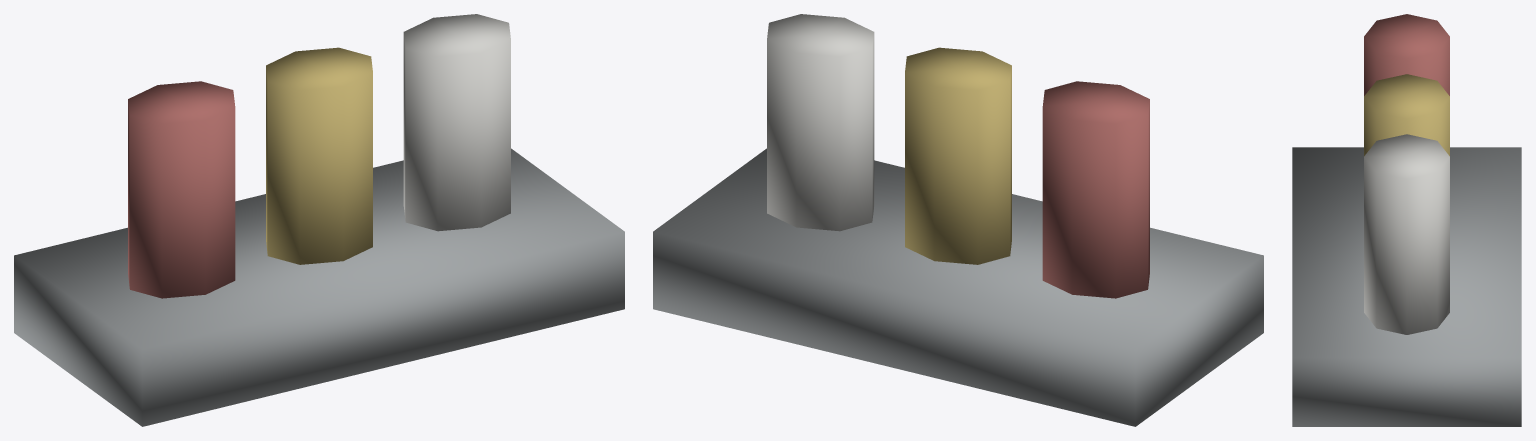
File: condiment_station__wide.glb
3 views of the same model, side by side, from view 1: azimuth 30°, elevation 25°; view 2: azimuth 150°, elevation 25°; view 3: azimuth 270°, elevation 25° (orthographic). The views are drawn at different scales.
Visible parts, largest first — view 1: world; view 2: world; view 3: world.
Boxes of the visible parts, x1,y1,x2,y2 form: world: (14, 14, 624, 426); world: (653, 14, 1263, 426); world: (1292, 14, 1521, 426).
Bounding box in the file's own units: 0.5208 × 0.26 × 0.24.
